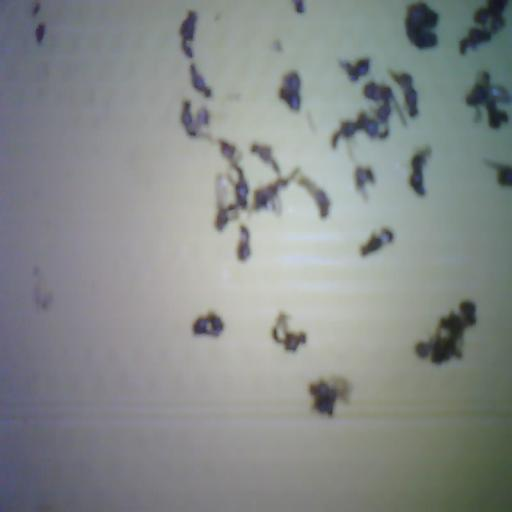Insects: (415, 301, 476, 363), (466, 71, 511, 128), (362, 82, 406, 138), (216, 164, 248, 231), (253, 169, 299, 215), (310, 377, 351, 415), (297, 173, 330, 218), (406, 3, 438, 49), (389, 70, 418, 116), (272, 313, 306, 351), (409, 147, 431, 195), (181, 101, 209, 138), (310, 380, 337, 415), (251, 143, 280, 174), (361, 228, 394, 255), (33, 267, 53, 310), (180, 11, 197, 58), (280, 72, 300, 110), (331, 121, 358, 148), (193, 312, 223, 336), (484, 160, 511, 186), (339, 58, 369, 81), (355, 166, 375, 200), (191, 64, 211, 97), (233, 164, 248, 208), (219, 140, 241, 164), (237, 226, 250, 261), (35, 23, 46, 44), (293, 0, 305, 13), (271, 40, 282, 52), (32, 2, 40, 16)
